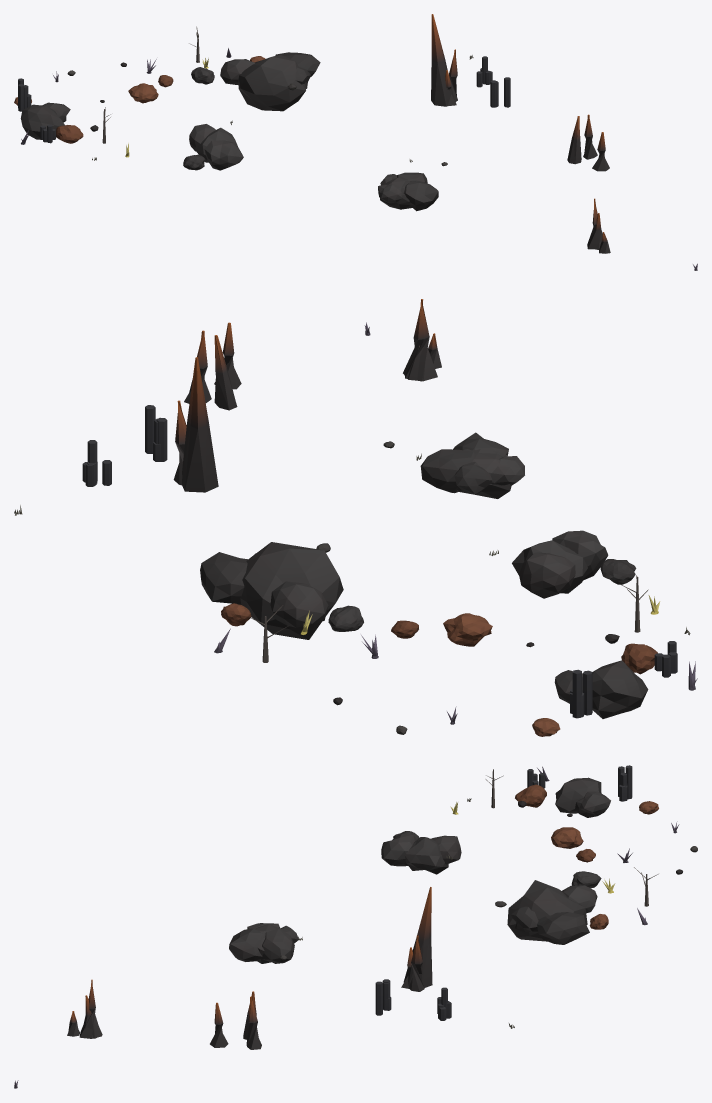
Rendered from ash_land_scatter_c20_31.glb.
3 renders of one model, top to bottom at view 1: azimuth 30°, elevation 25°; view 2: azimuth 150°, elevation 25°; view 3: azimuth 270°, elevation 25°, orthographic. The views are drawn at different scales.
Visible parts, largest first — view 1: ash_land_scatter_c20_31; view 2: ash_land_scatter_c20_31; view 3: ash_land_scatter_c20_31.
Boxes of the visible parts, box(x1,y1,x2,y2) form: ash_land_scatter_c20_31: box(14, 14, 697, 270); ash_land_scatter_c20_31: box(14, 299, 697, 736); ash_land_scatter_c20_31: box(14, 765, 697, 1088).
Bounding box in the file's own units: 83.13 × 24.92 × 98.17.
